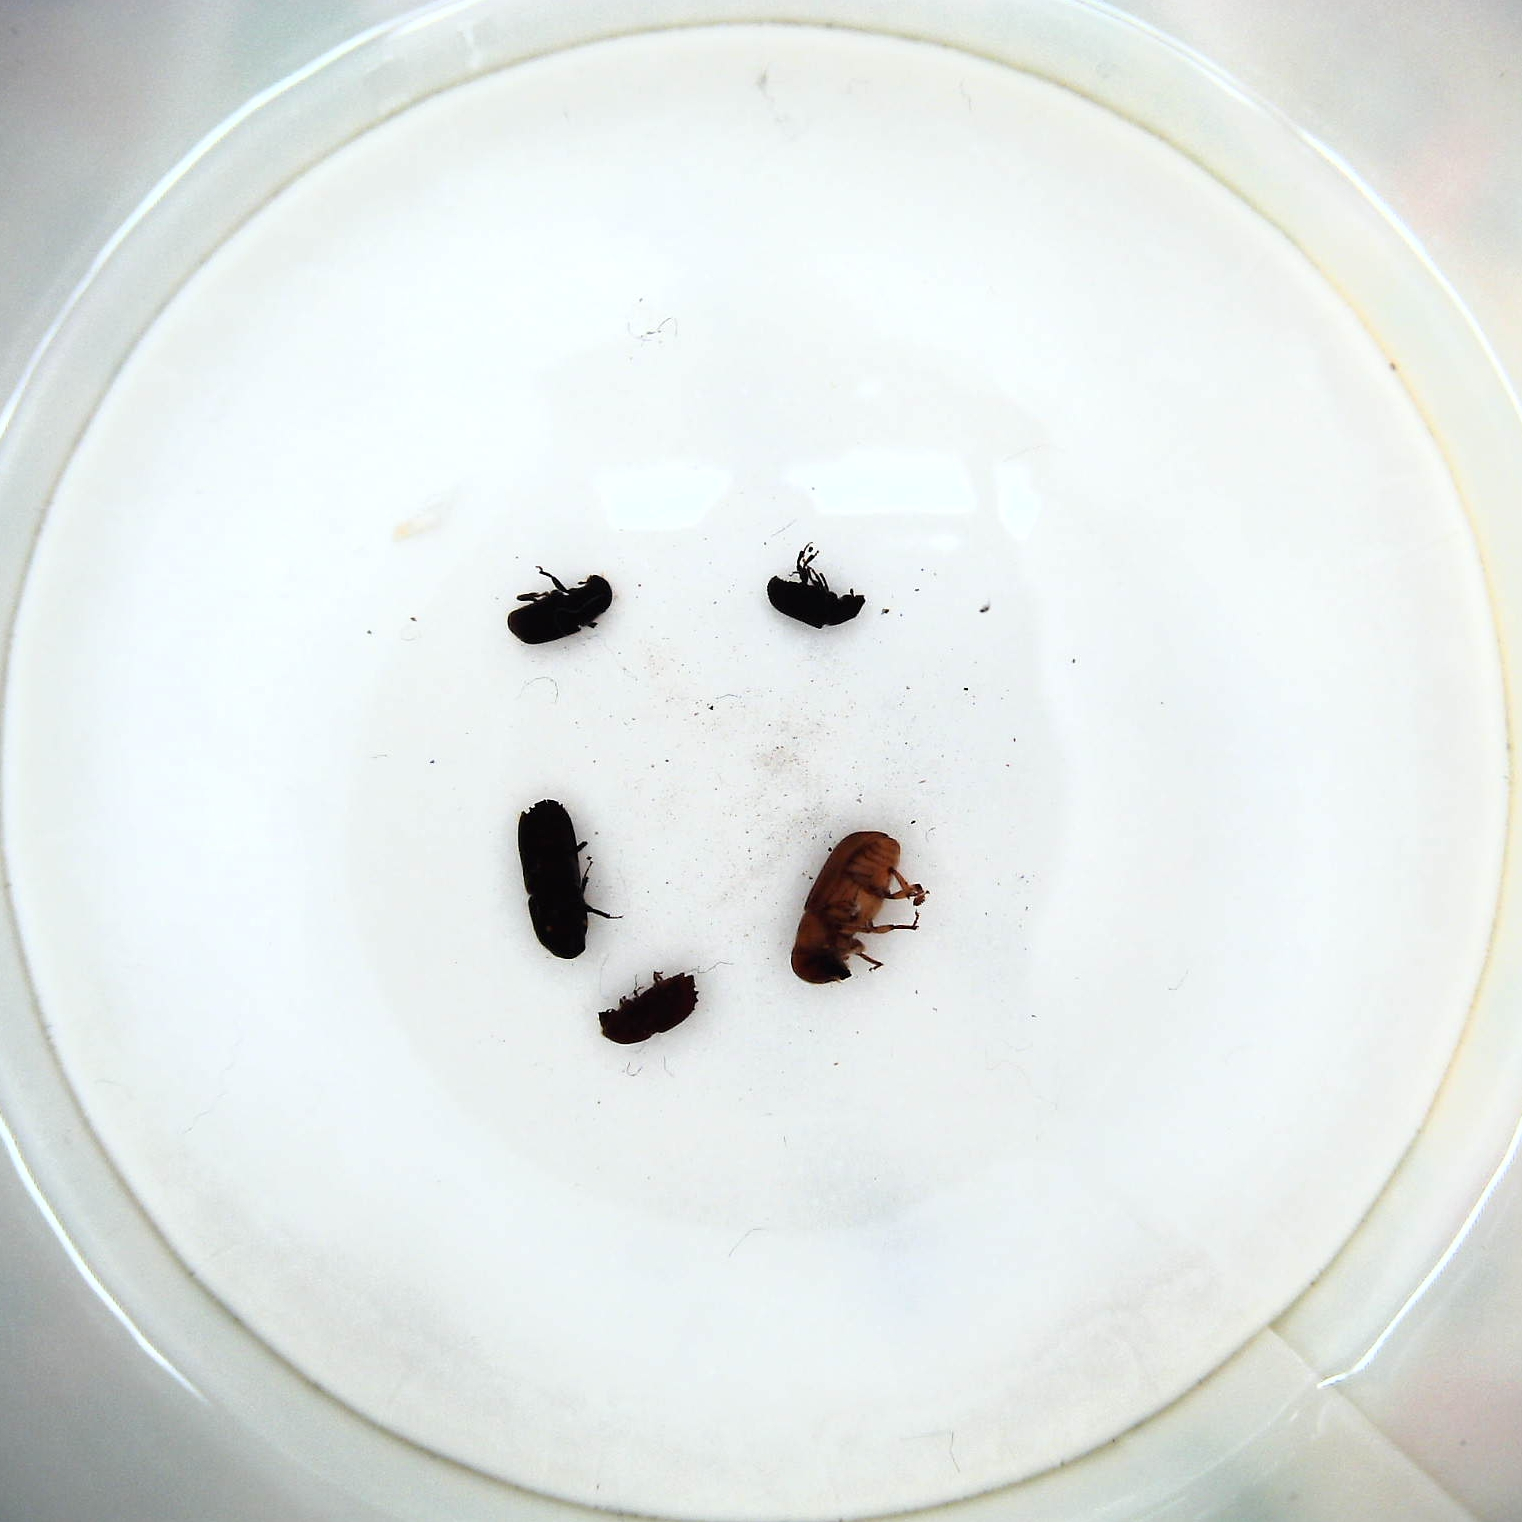Boerner: (510, 793, 610, 963)
Leconte: (785, 829, 928, 988)
armandi: (503, 562, 620, 645)
coleoptera: (764, 539, 868, 634)
linnaeus: (588, 966, 698, 1050)
